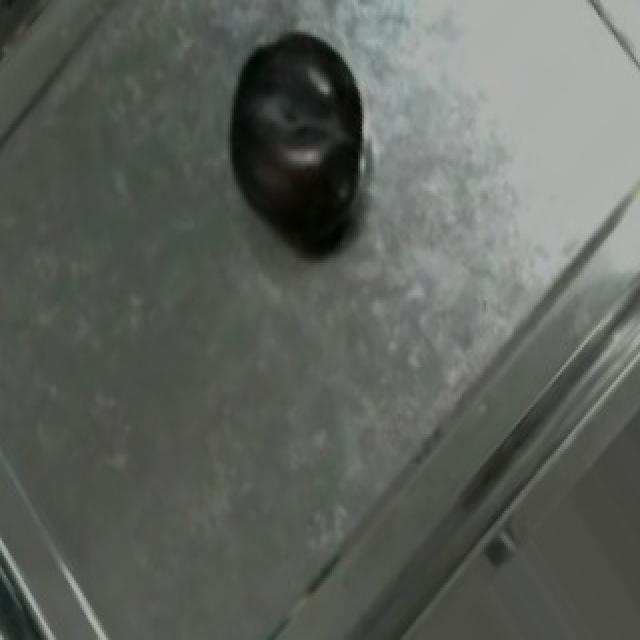Fruit: (206, 13, 390, 238)
